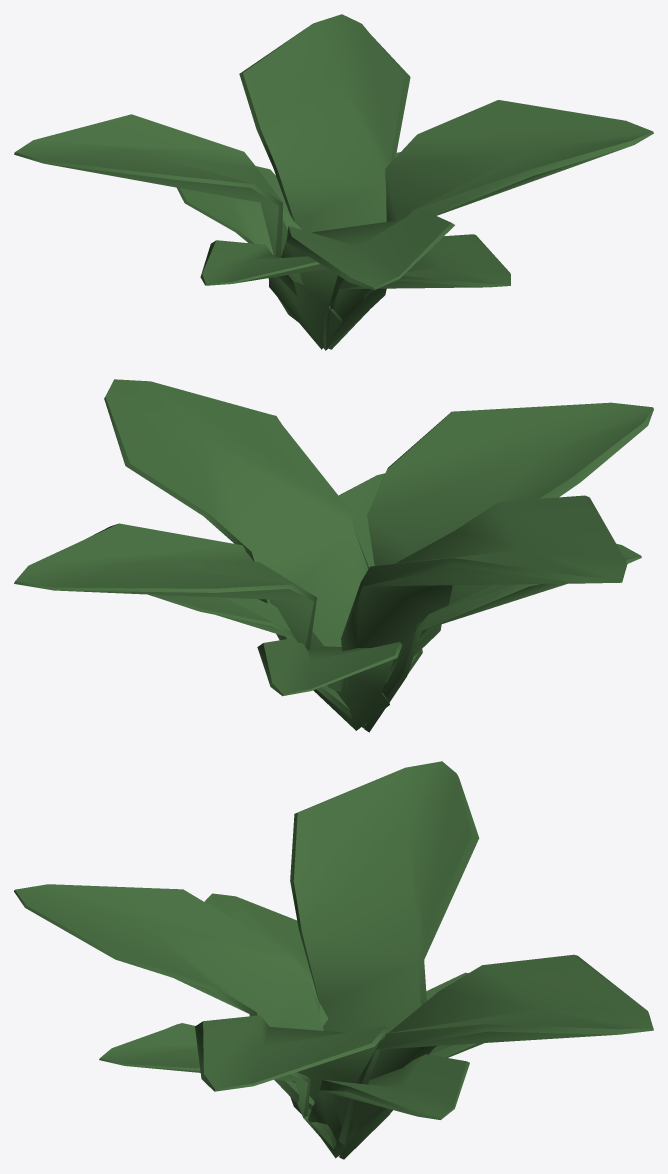
File: Lettuce Sprout.fbx
3 views of the same model, one above another, from view 1: azimuth 30°, elevation 25°; view 2: azimuth 150°, elevation 25°; view 3: azimuth 270°, elevation 25° (orthographic). The views are drawn at different scales.
Visible parts, largest first — view 1: Lettuce_Sprout4, Lettuce_Sprout3, Lettuce_Sprout1, Lettuce_Sprout2, Lettuce_Sprout5, Lettuce_Sprout6, Lettuce_Sprout8; view 2: Lettuce_Sprout3, Lettuce_Sprout2, Lettuce_Sprout1, Lettuce_Sprout4, Lettuce_Sprout8, Lettuce_Sprout5, Lettuce_Sprout7, Lettuce_Sprout6; view 3: Lettuce_Sprout1, Lettuce_Sprout2, Lettuce_Sprout4, Lettuce_Sprout3, Lettuce_Sprout7, Lettuce_Sprout6, Lettuce_Sprout5, Lettuce_Sprout8.
Part boxes in pixels (box(x1,y1,x2,y2)): Lettuce_Sprout4: box(239, 14, 410, 232); Lettuce_Sprout3: box(363, 100, 653, 300); Lettuce_Sprout1: box(14, 114, 303, 284); Lettuce_Sprout2: box(278, 209, 454, 304); Lettuce_Sprout5: box(200, 240, 341, 349); Lettuce_Sprout6: box(323, 234, 510, 350); Lettuce_Sprout8: box(177, 166, 301, 322); Lettuce_Sprout3: box(104, 379, 368, 646); Lettuce_Sprout2: box(367, 402, 653, 683); Lettuce_Sprout1: box(341, 495, 627, 690); Lettuce_Sprout4: box(14, 523, 343, 691); Lettuce_Sprout8: box(257, 638, 401, 730); Lettuce_Sprout5: box(364, 543, 641, 732); Lettuce_Sprout7: box(148, 594, 365, 728); Lettuce_Sprout6: box(338, 473, 422, 724); Lettuce_Sprout1: box(290, 761, 479, 1033); Lettuce_Sprout2: box(14, 884, 323, 1109); Lettuce_Sprout4: box(339, 954, 653, 1145); Lettuce_Sprout3: box(195, 1015, 388, 1128); Lettuce_Sprout7: box(307, 1054, 469, 1158); Lettuce_Sprout6: box(99, 1023, 336, 1148); Lettuce_Sprout5: box(204, 893, 328, 1113); Lettuce_Sprout8: box(339, 972, 484, 1159).
Bounding box in the file's own units: 75.45 × 30.75 × 70.37.
